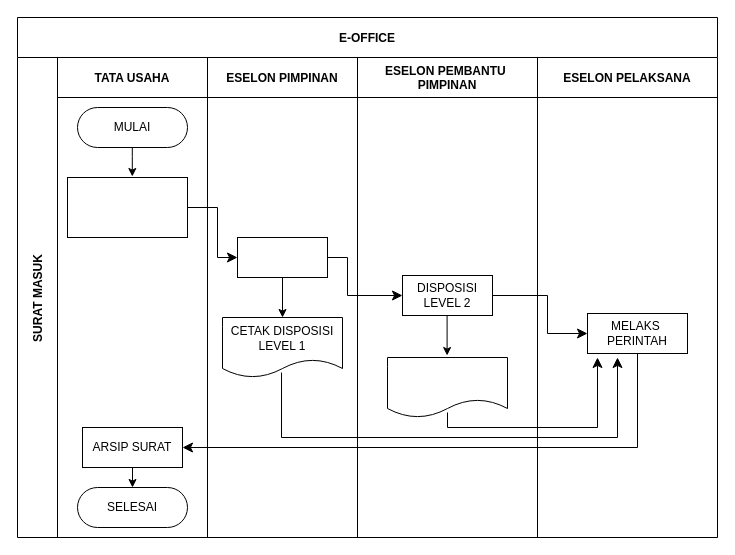
This 735x555 diagram has some shape labels left out. The shapes that lost their labels are listed below. From the top down, each one's box as (x1, y1, x2, y2) in pixels, then its label:
(66, 176, 188, 238): DATA SURAT MASUK
(236, 236, 328, 278): DISPOSISI LEVEL 1
(386, 356, 508, 418): CETAK DISPOSISI LEVEL 2
